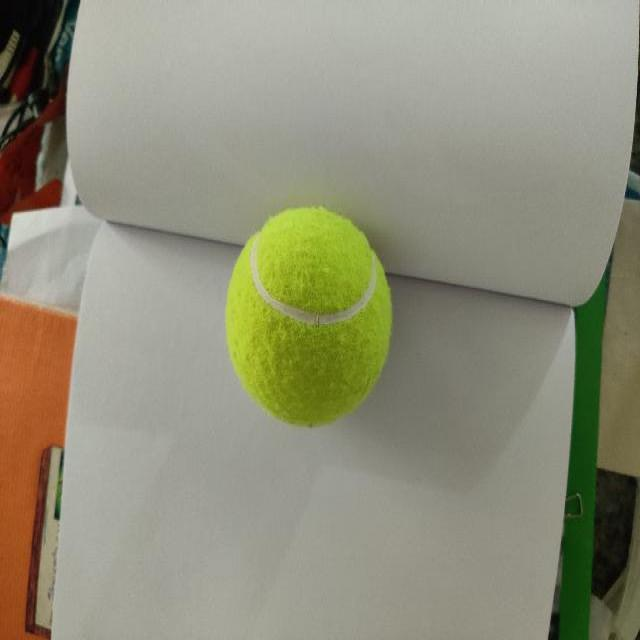tennis-ball: (224, 207, 392, 429)
